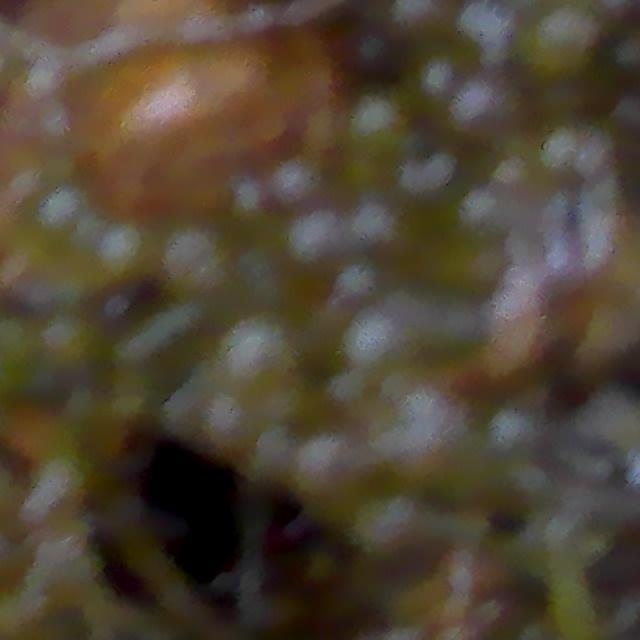SeaGrape: (450, 69, 533, 149), (274, 213, 349, 297), (273, 156, 341, 223), (526, 15, 587, 77), (388, 0, 436, 50)
